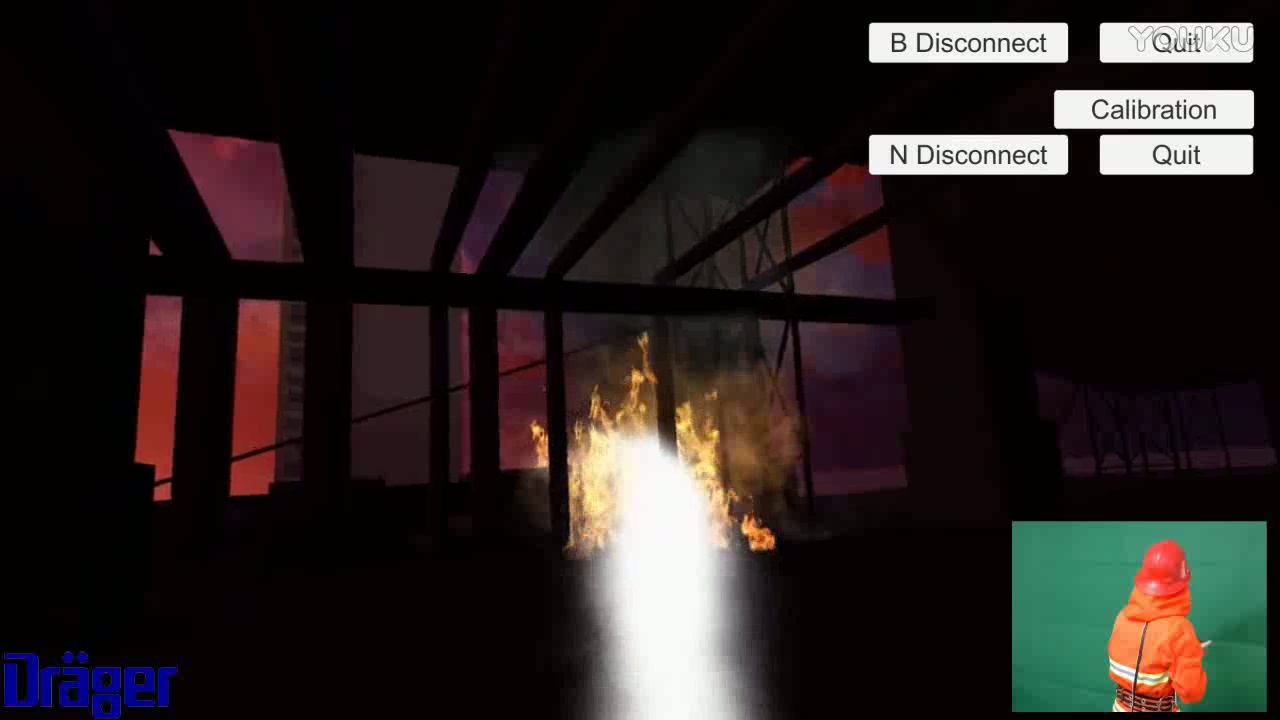fire: (525, 328, 783, 557)
